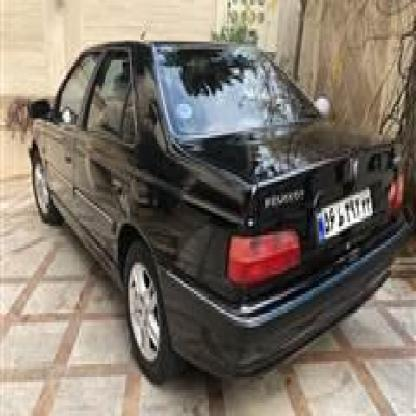Car: (0, 34, 404, 387)
